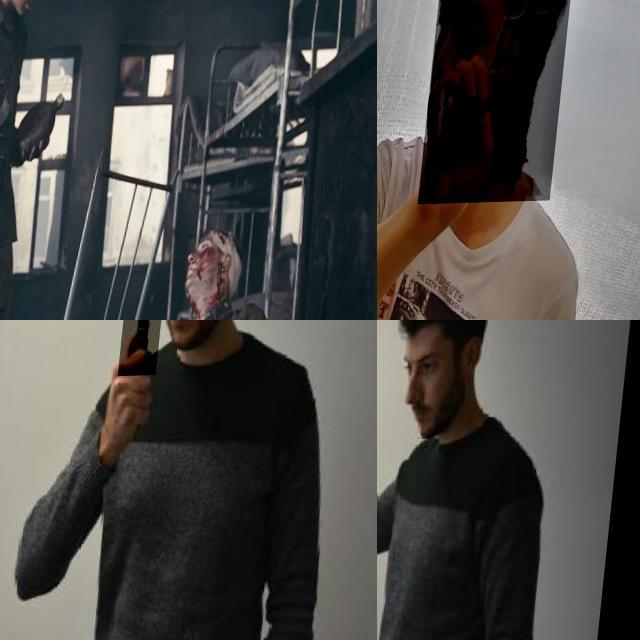-: (123, 320, 172, 386), (377, 372, 407, 431)
gun-knife-thesis - v11 Yolov5 augmented: (426, 0, 580, 206), (0, 196, 26, 293)
